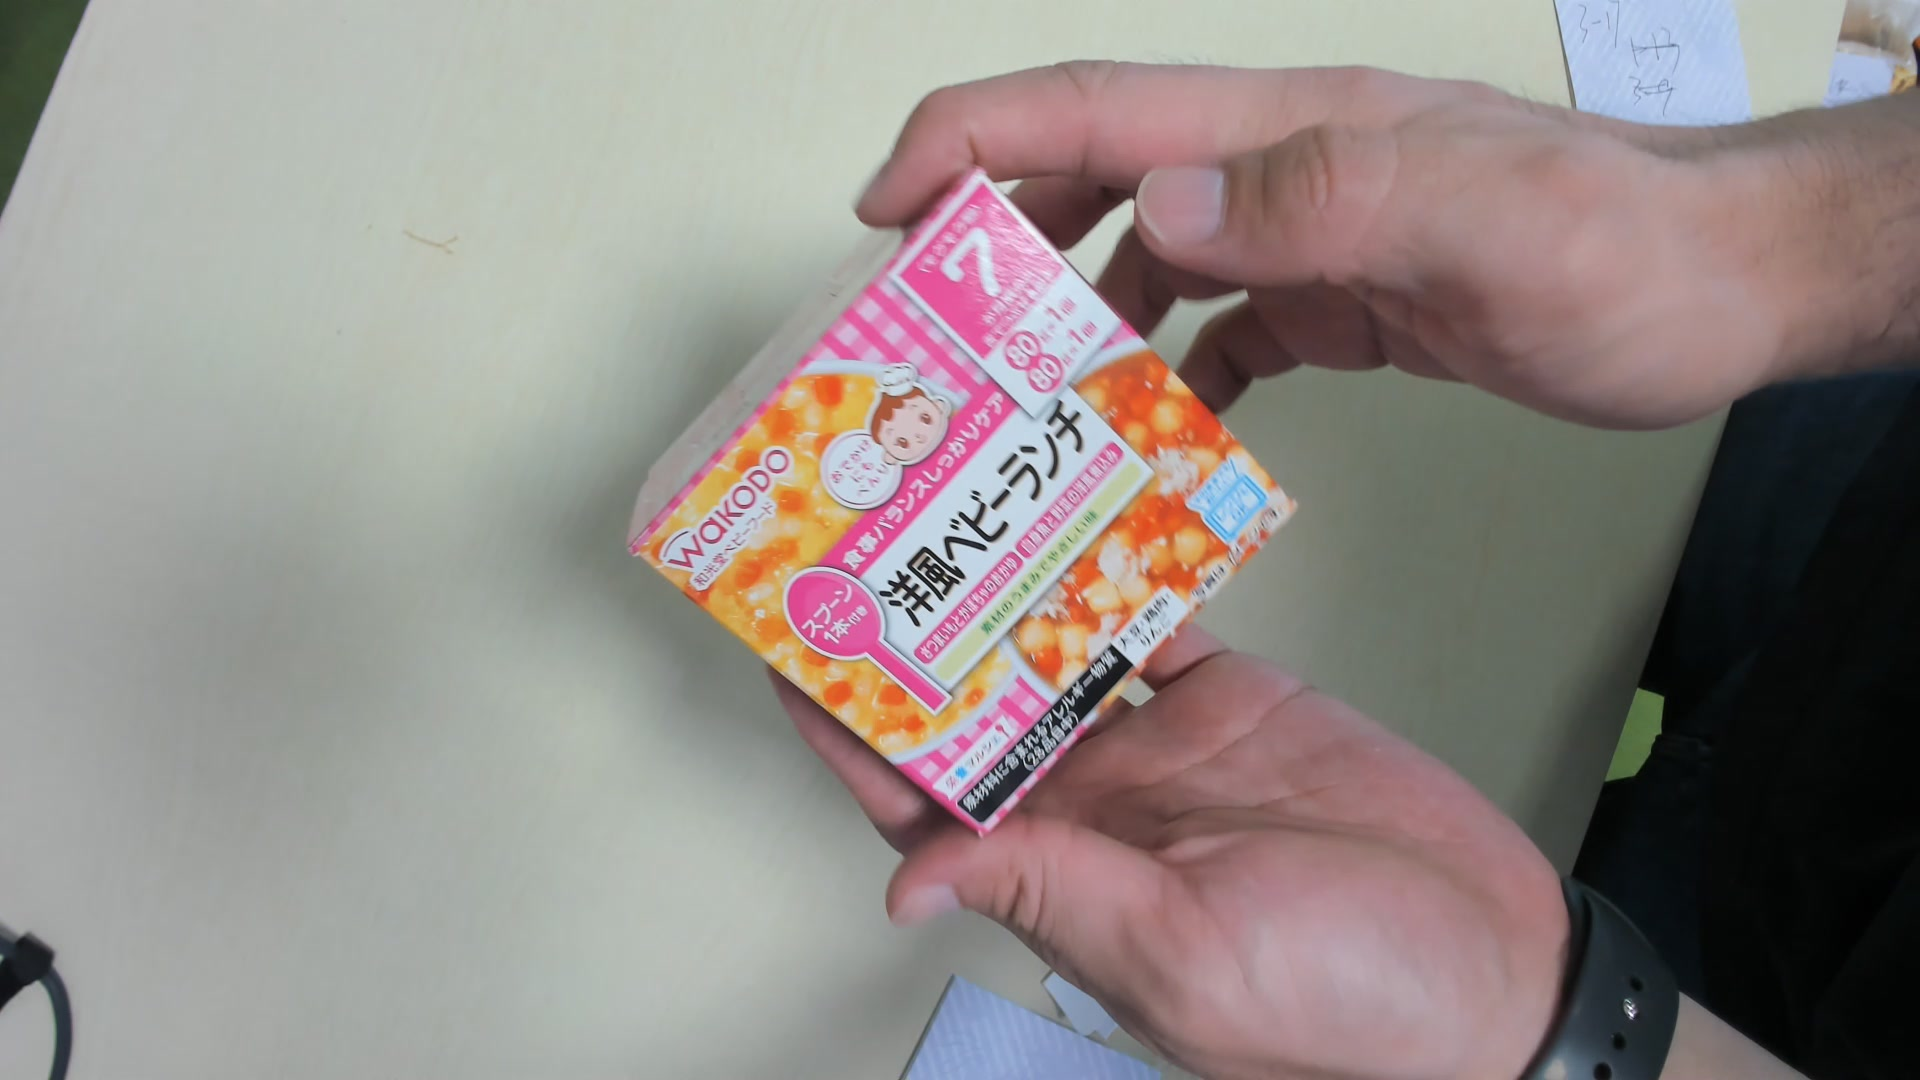InstantMeals_0-99g_NonHalal_NonHealthy: (630, 167, 1309, 843)
